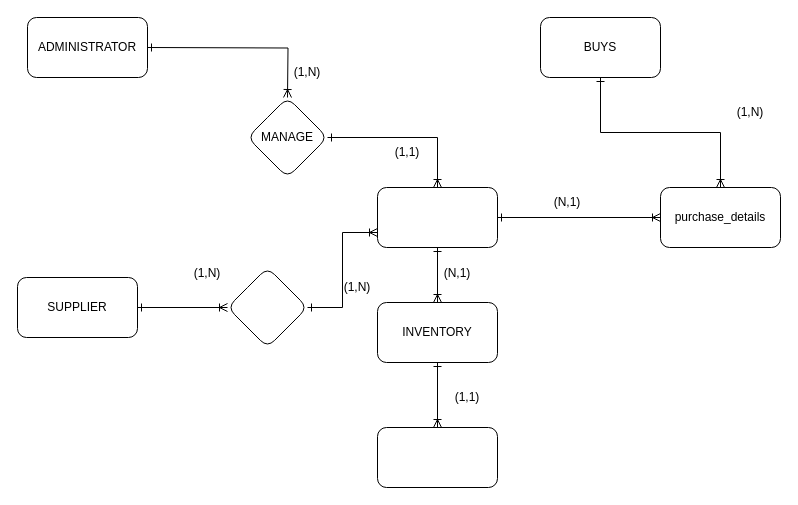
The diagram is 798 pixels wide and 505 high, and some of its shapes have lost their labels. Each missing label, with the box of its shape:
PRODUCT: (376, 186, 498, 248)
PROVIDES: (226, 266, 308, 348)
STORE: (376, 426, 498, 488)
